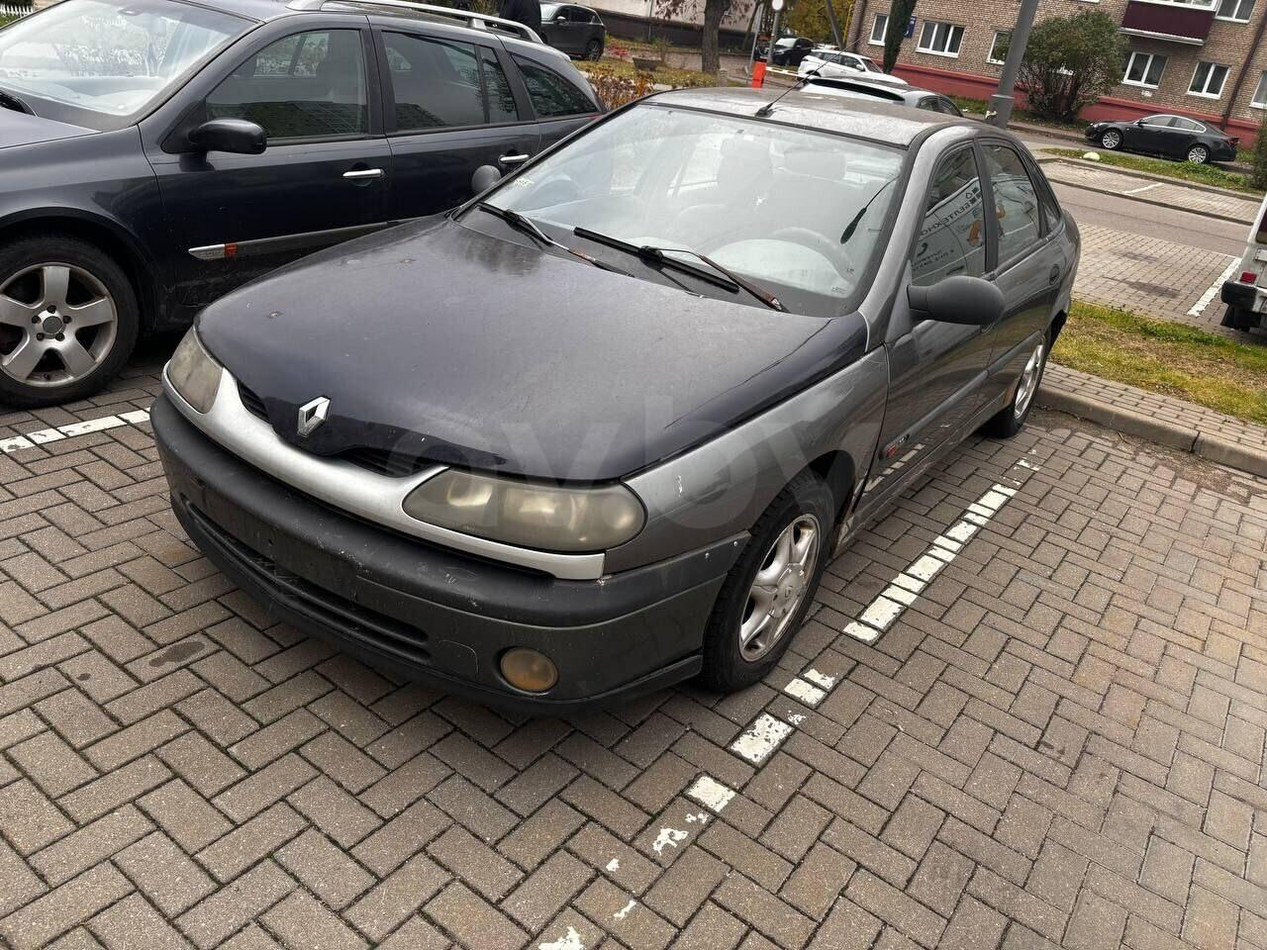Lahuna_1993-1999: (146, 82, 1090, 721)
